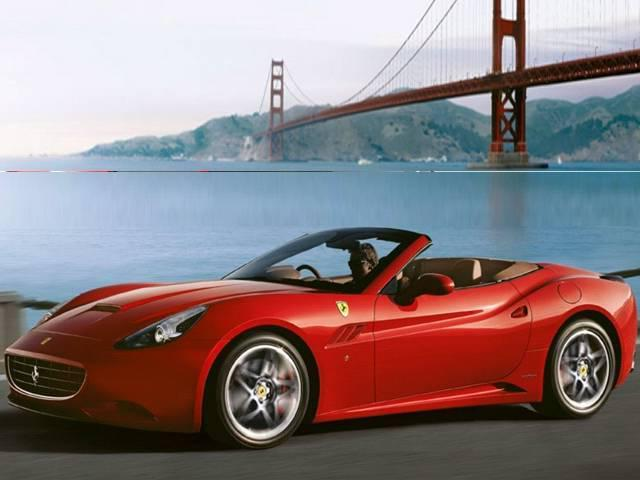Car: (2, 218, 640, 458)
